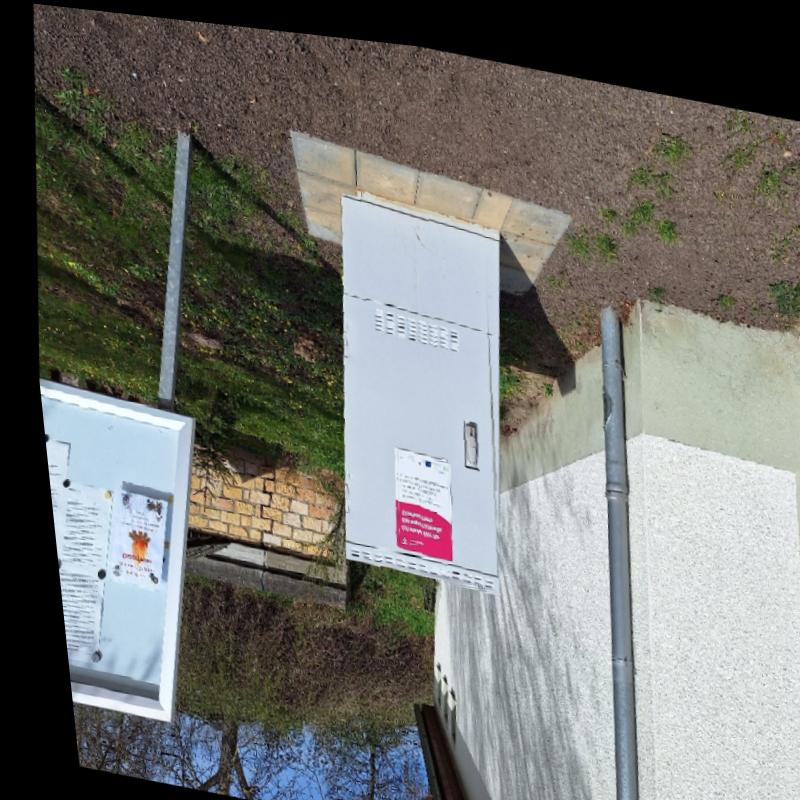NT-Gehause: (335, 187, 486, 583)
Steaker: (389, 444, 443, 552)
